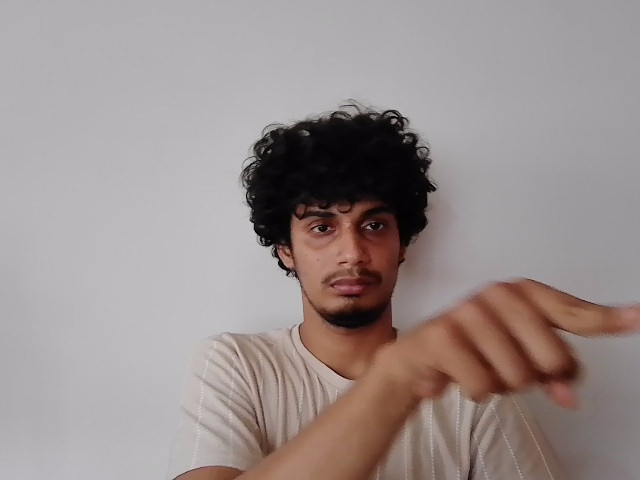you: (400, 270, 640, 406)
